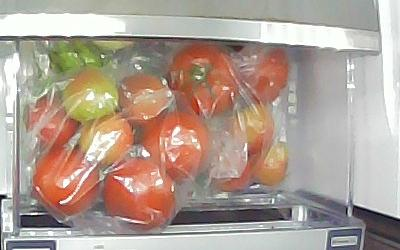tomato_vinyl: (167, 43, 239, 115), (34, 143, 100, 216), (142, 112, 210, 182), (78, 114, 134, 165), (29, 88, 79, 145), (63, 70, 119, 120), (242, 48, 290, 103), (118, 74, 173, 120), (224, 104, 274, 152), (211, 150, 253, 192), (252, 141, 289, 186)
